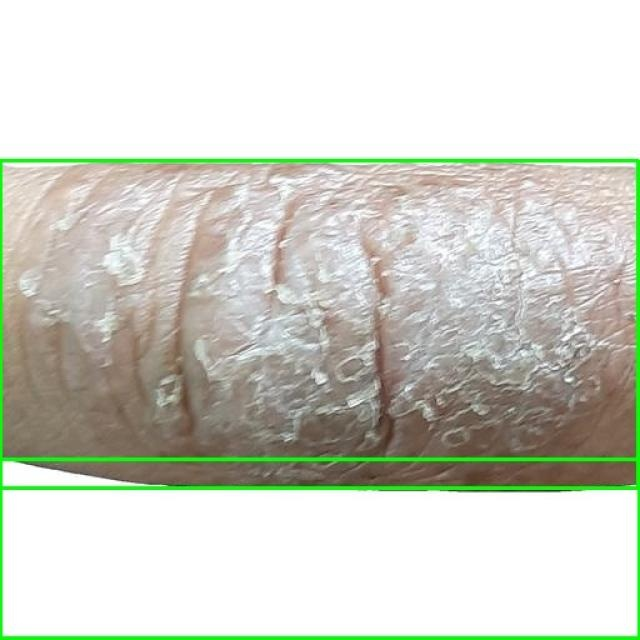Eczema: (0, 161, 639, 489), (0, 460, 639, 639)
